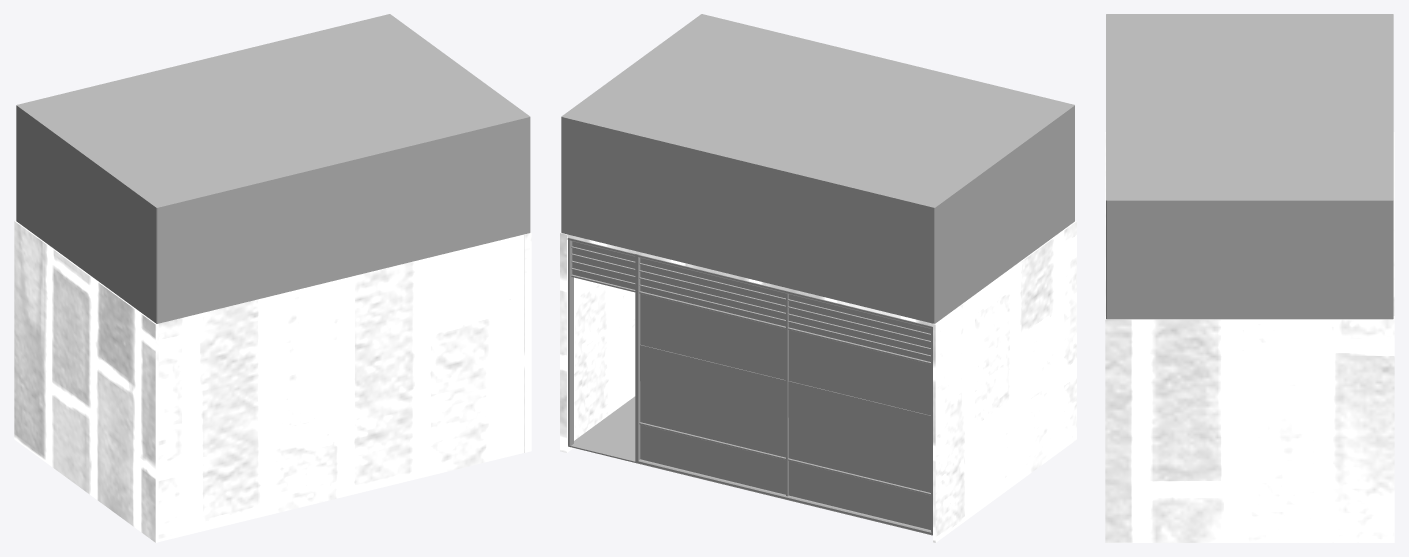
Rendered from SM_RoomManagerA.fbx.
3 views of the same model, side by side, from view 1: azimuth 30°, elevation 25°; view 2: azimuth 150°, elevation 25°; view 3: azimuth 270°, elevation 25° (orthographic). The views are drawn at different scales.
Parts seen in each view (by area): view 1: SM_RoomManagerA; view 2: SM_RoomManagerA; view 3: SM_RoomManagerA.
Part boxes in pixels (<box>): SM_RoomManagerA: <box>14,14,531,542</box>; SM_RoomManagerA: <box>560,14,1076,542</box>; SM_RoomManagerA: <box>1105,14,1394,542</box>.
Bounding box in the file's own units: 540 × 352 × 459.
